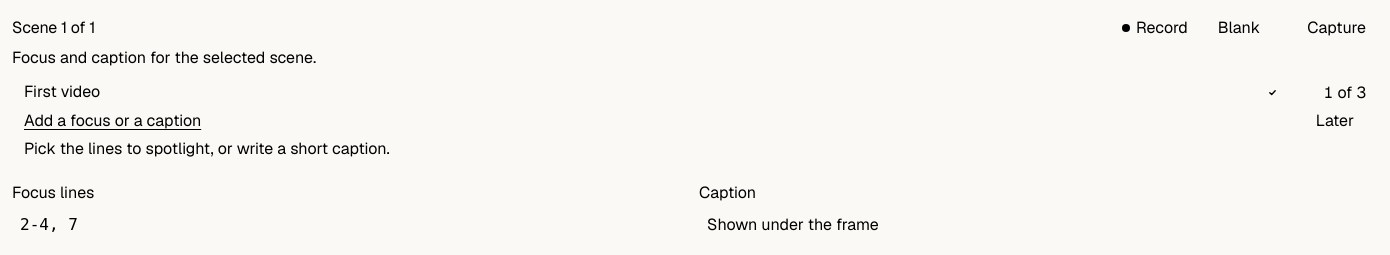
the studio's typed fields › the focus field › clamps 1-1000000 to the scene's five lines and says so in the field
In the field named "Scene 1 focus lines": (352, 224) [12, 210, 691, 238], type "1-1000000"
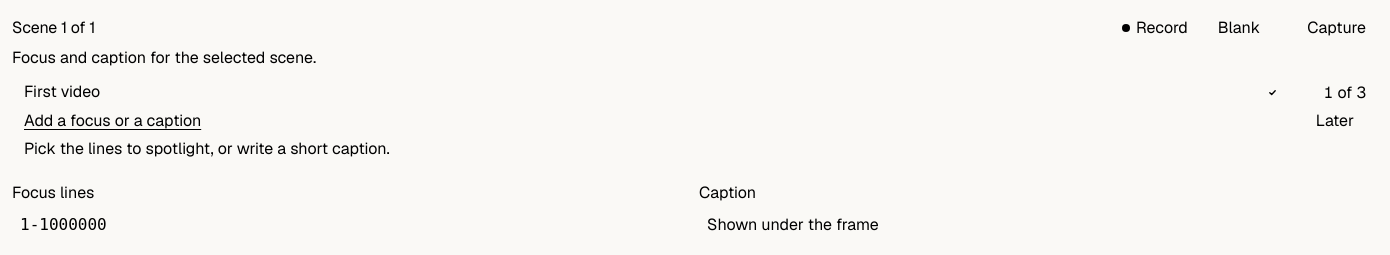
Leave the field named "Scene 1 focus lines", box [12, 210, 691, 238]
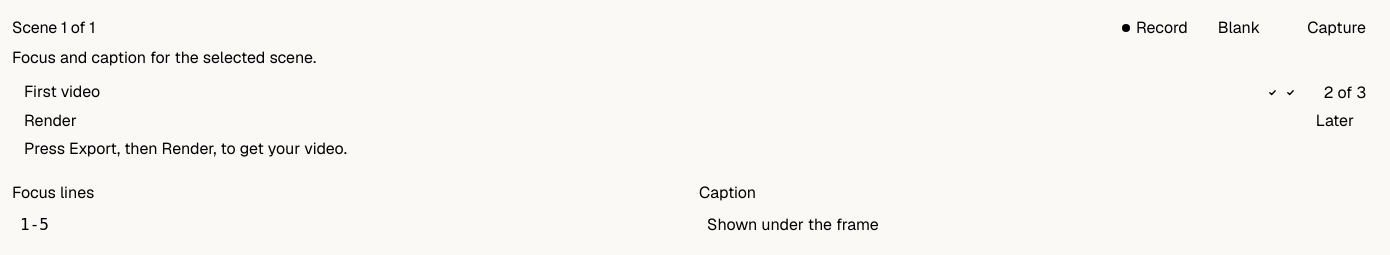
Now the field named "Scene 1 focus lines" holds "1-5", box [12, 210, 691, 238]
